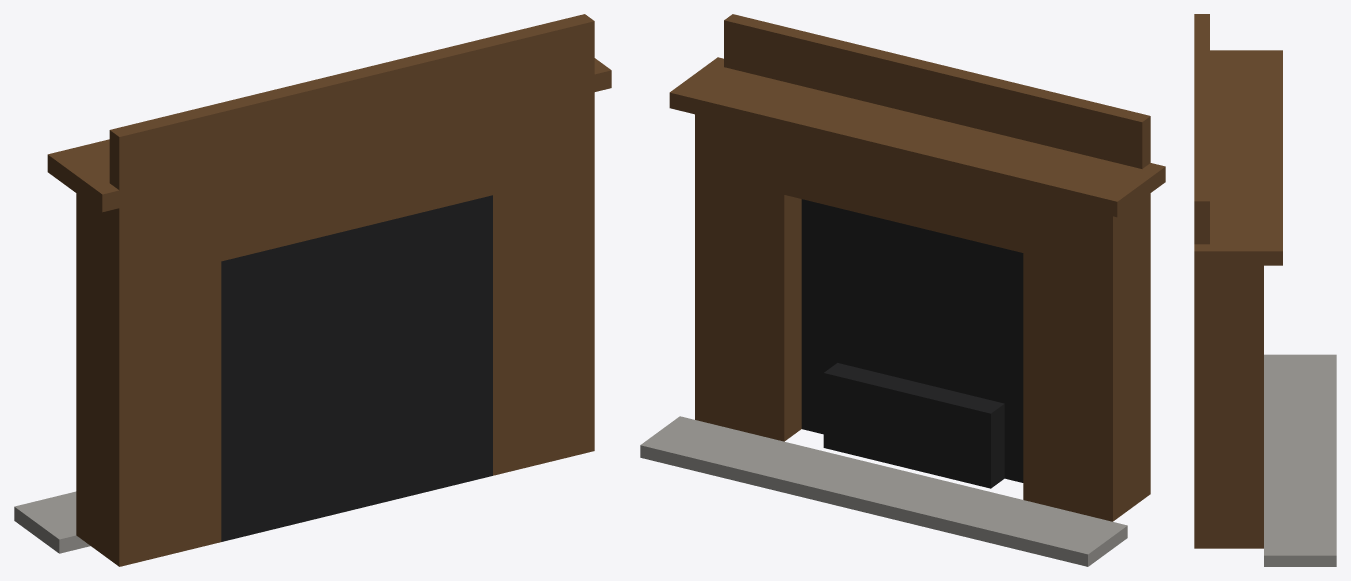
Rendered from parametric-fireplace-1st-pub.glb.
The picture shows the model from 3 angles, left to right: view 1: azimuth 30°, elevation 25°; view 2: azimuth 150°, elevation 25°; view 3: azimuth 270°, elevation 25°; orthographic projection. The views are drawn at different scales.
Parts seen in each view (by area): view 1: parametric-fireplace-1st-pub; view 2: parametric-fireplace-1st-pub; view 3: parametric-fireplace-1st-pub.
Boxes of the visible parts, x1=… form: parametric-fireplace-1st-pub: x1=14, y1=14, x2=611, y2=566; parametric-fireplace-1st-pub: x1=640, y1=14, x2=1165, y2=566; parametric-fireplace-1st-pub: x1=1194, y1=14, x2=1336, y2=566.
Size of the model in its own units: 1.5 by 1.25 by 0.45.
